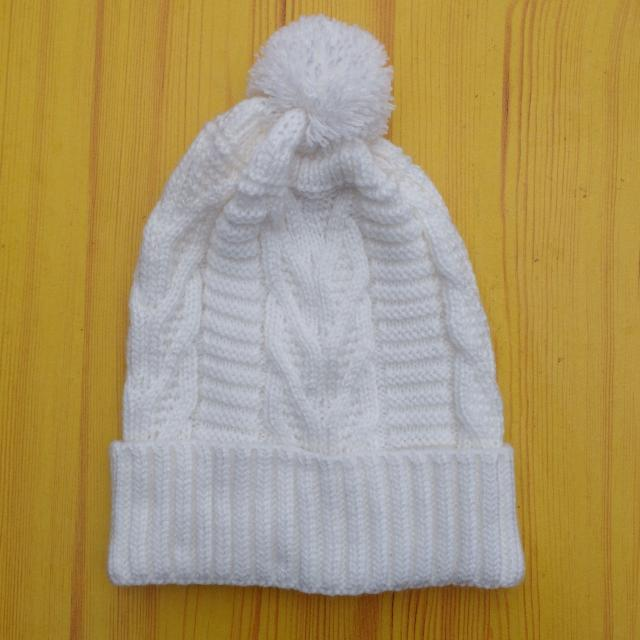Gorro: (107, 13, 526, 595)
